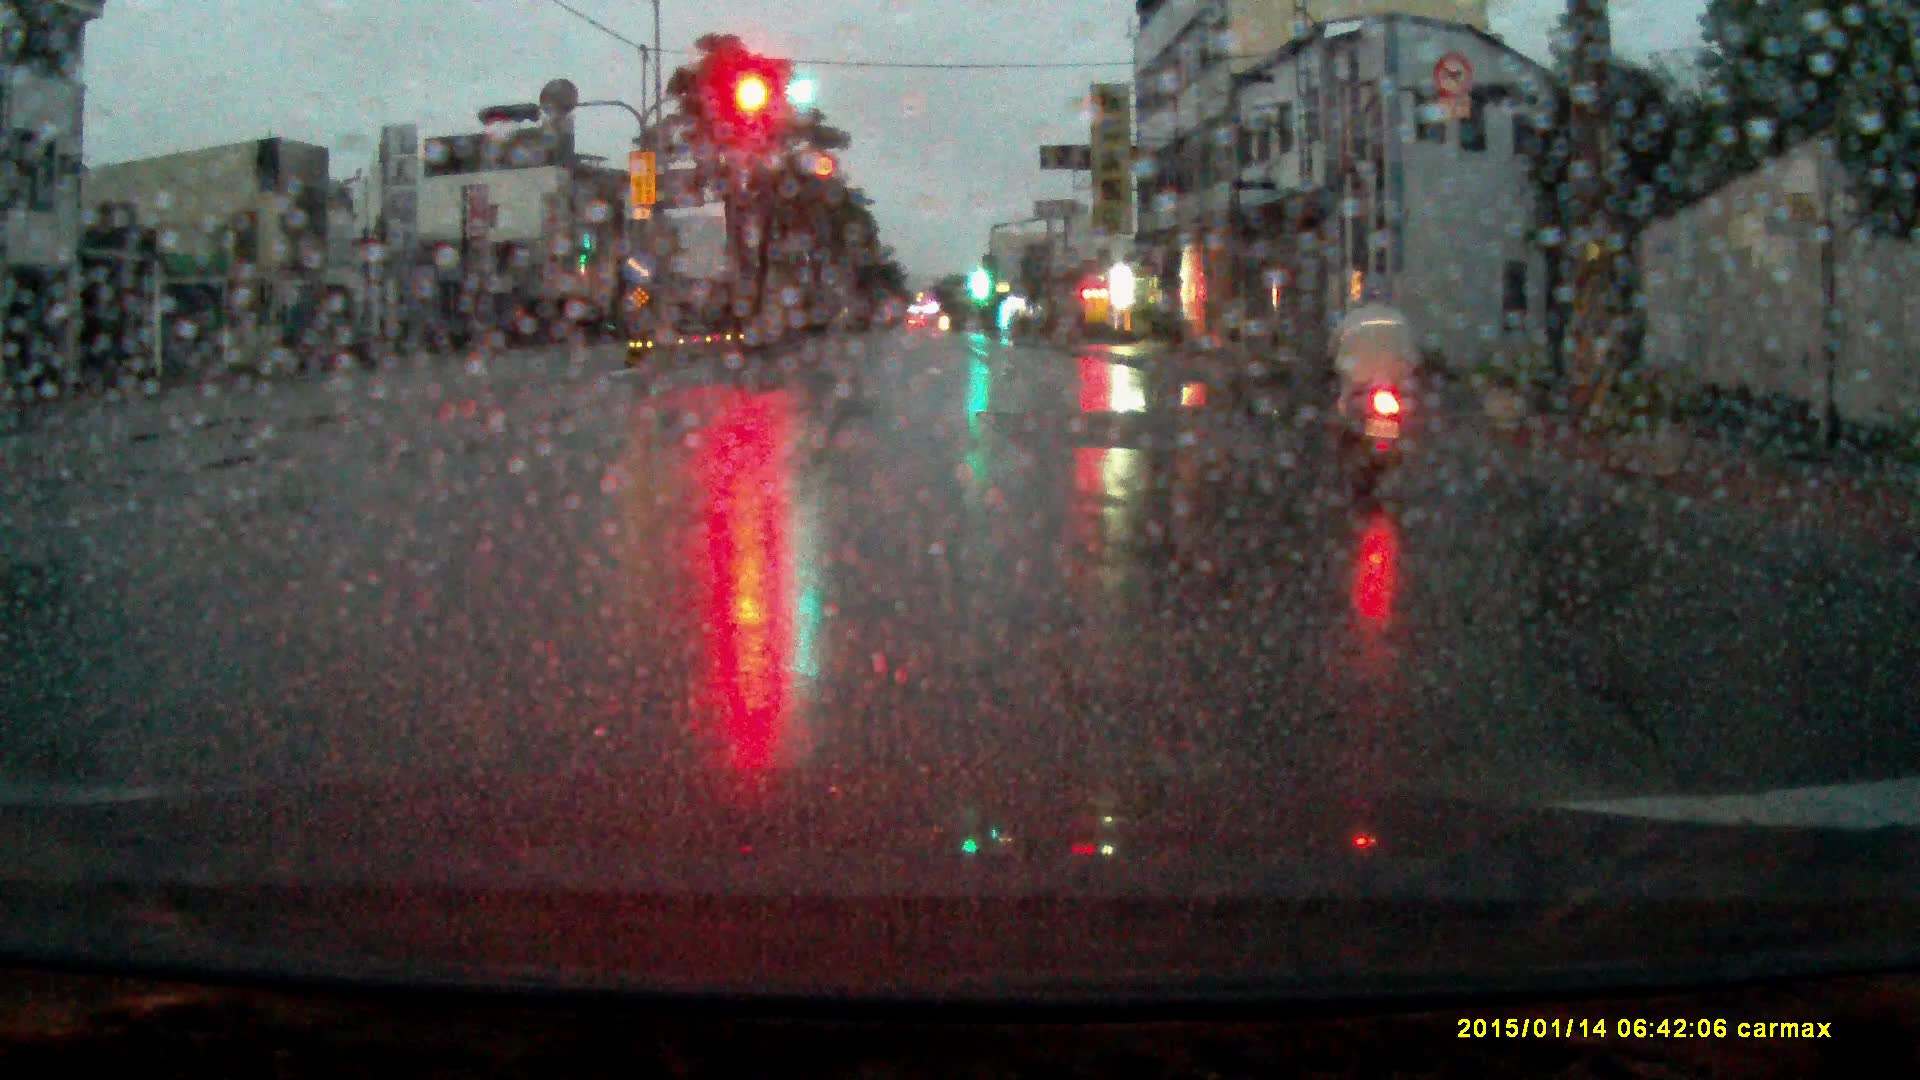rider: (1331, 266, 1426, 519)
